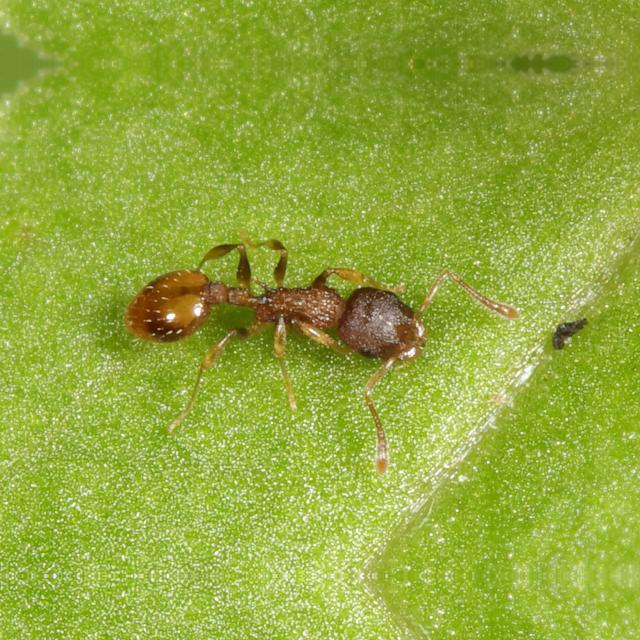Temnothorax: (98, 216, 482, 417)
